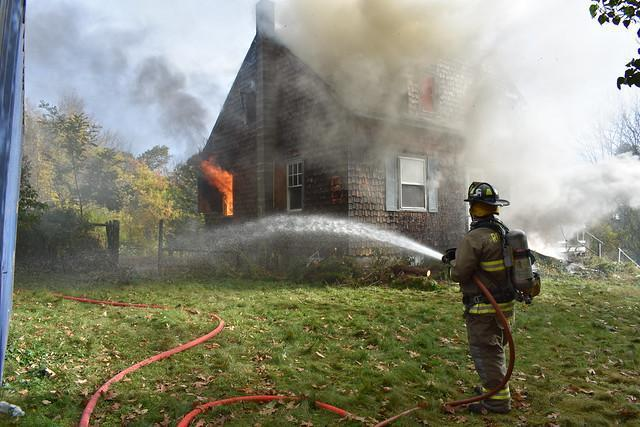fire: (193, 154, 248, 222)
